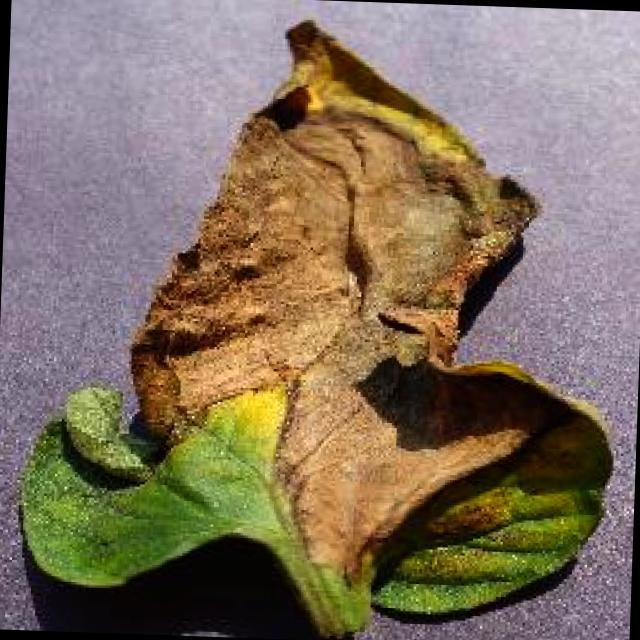Tomato late blight leaf: (16, 6, 632, 624)
